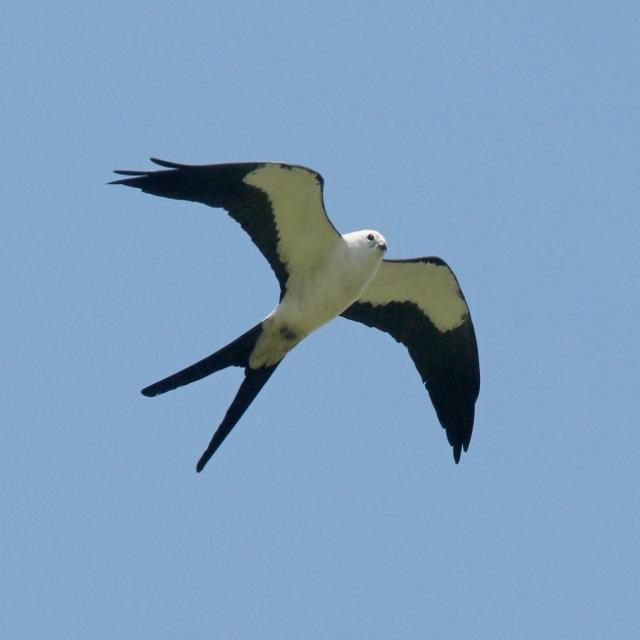bird: (102, 134, 488, 506)
